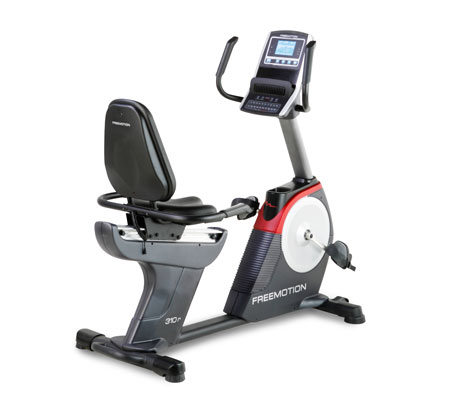gym_bike: (71, 29, 372, 376)
